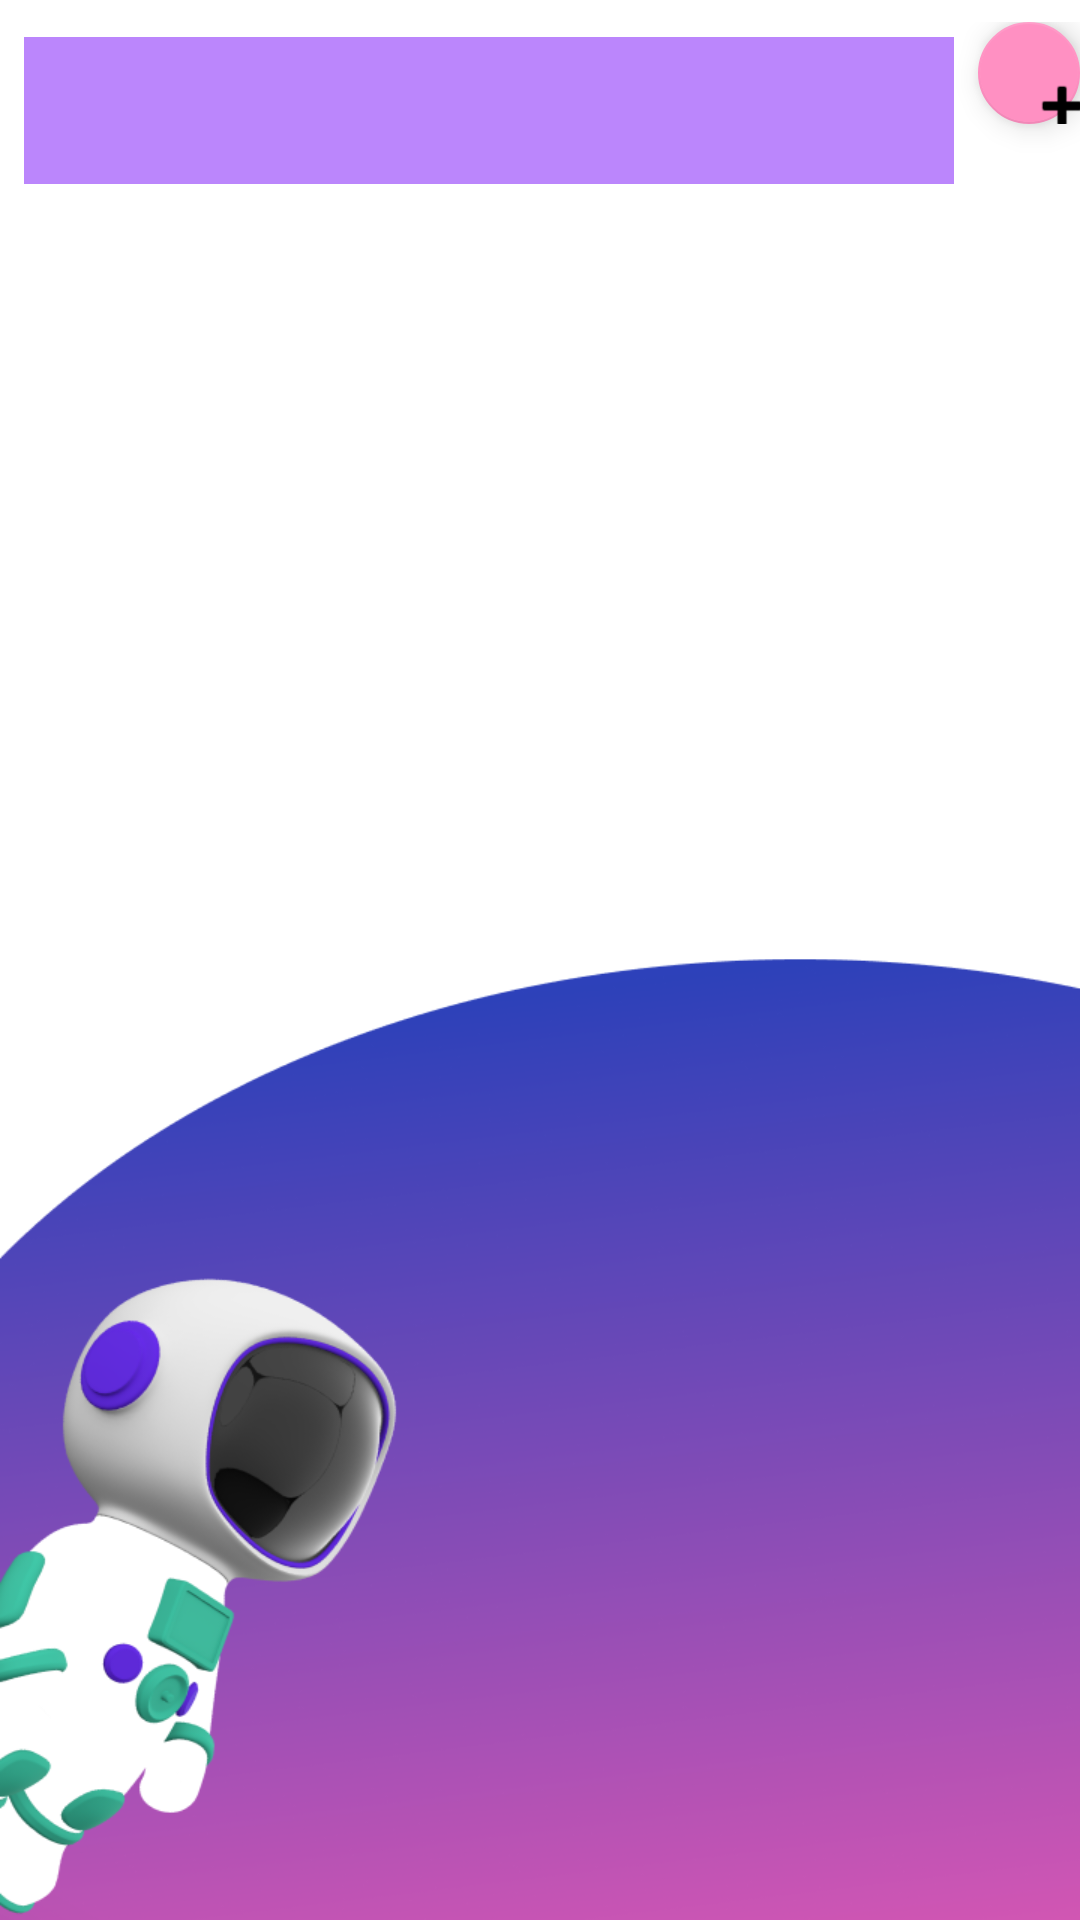

Named icons in this screenshot (1080px x 1920px) and their centers, (x=x, y=y):
add: (x=1029, y=73)
